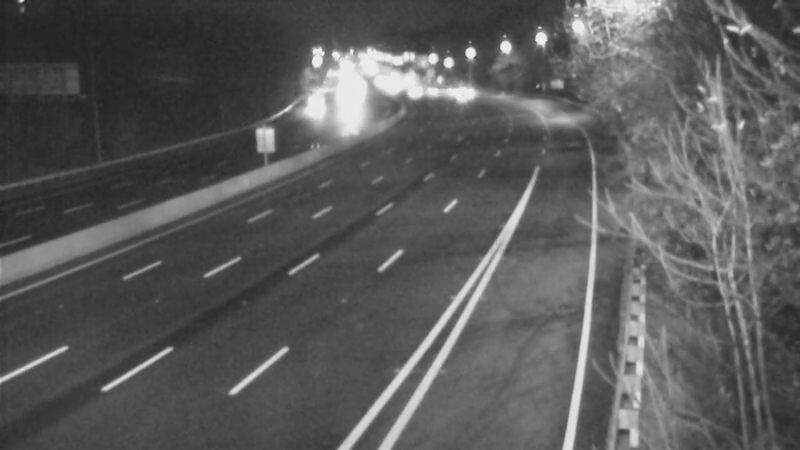vehicle: (424, 65, 474, 115), (408, 66, 458, 116), (440, 61, 490, 111), (288, 77, 338, 127)
